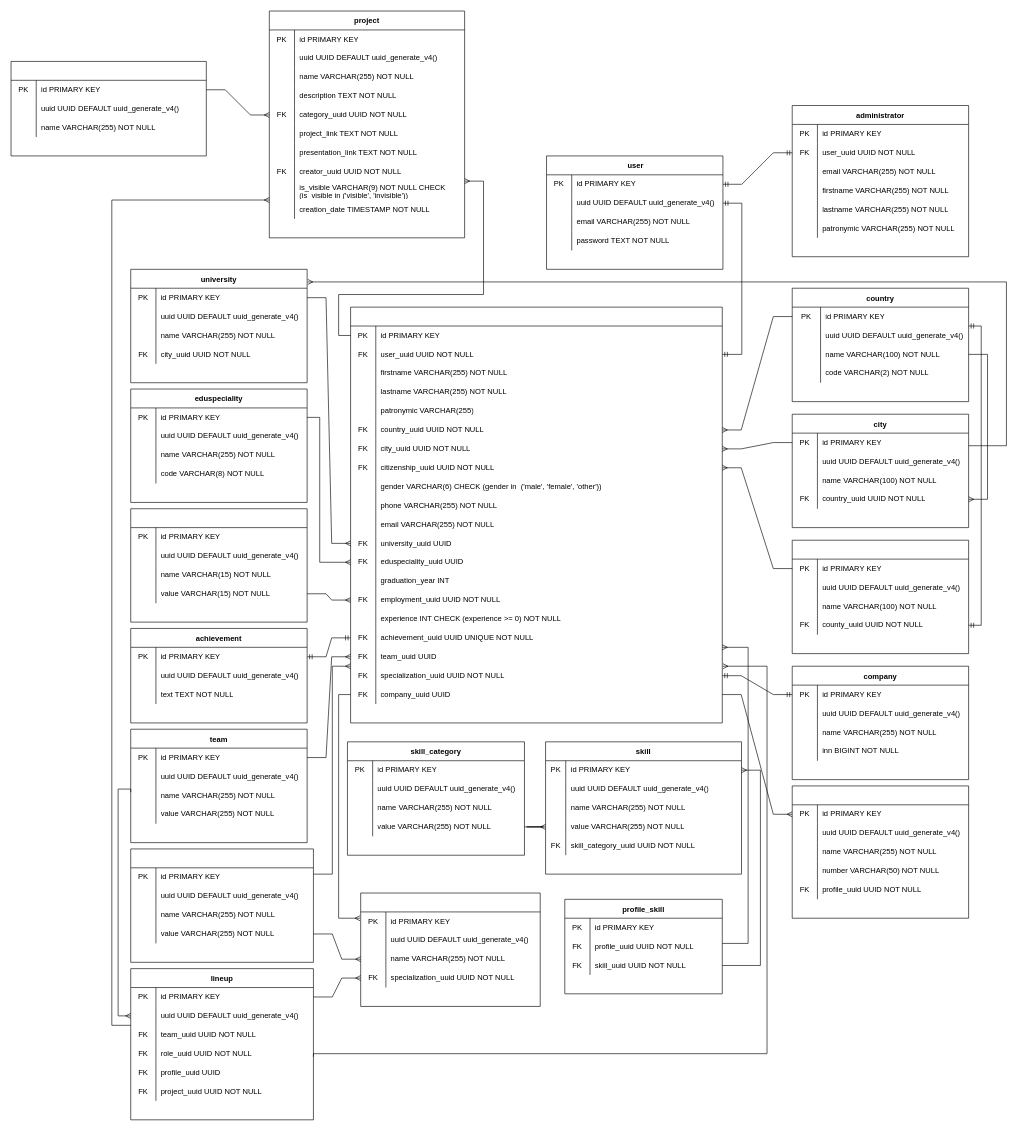
Some shapes in this 1022 by 1131 pixel diagram are drawn without their labels. Each missing label, with the box of its shape:
category: (10, 61, 206, 156)
citizenship: (792, 540, 969, 654)
employment: (130, 508, 307, 622)
patent: (792, 785, 969, 918)
profile: (350, 306, 722, 723)
role: (360, 892, 540, 1006)
specialization: (130, 848, 313, 962)
